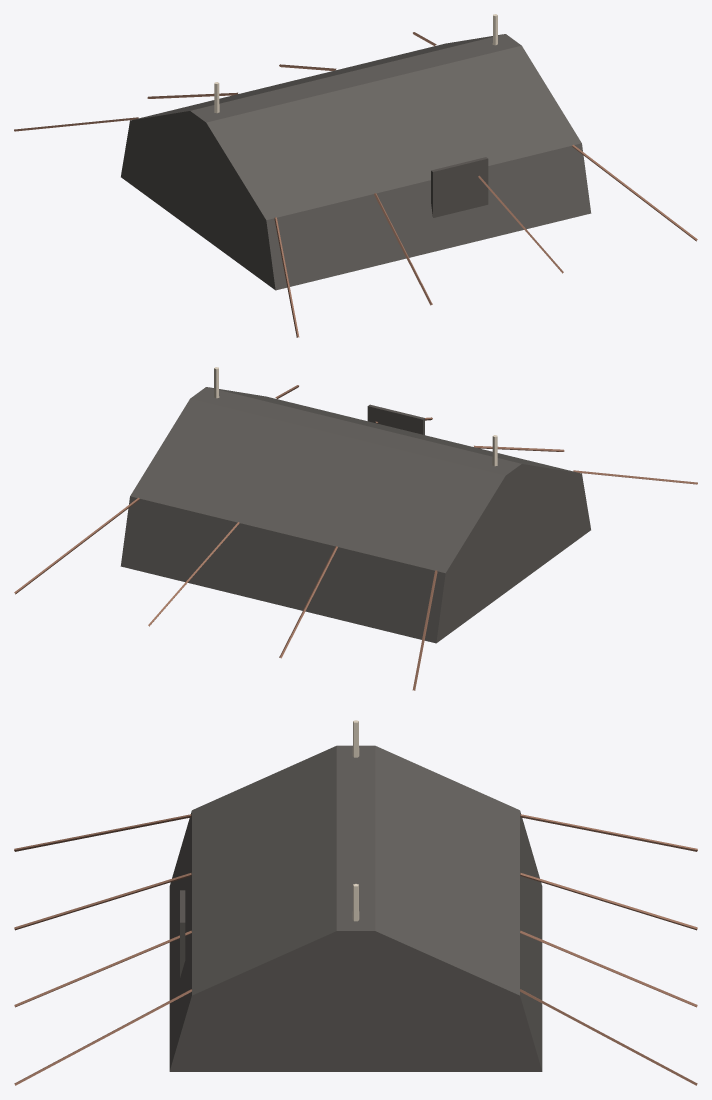
3 views of the same model, one above another, from view 1: azimuth 30°, elevation 25°; view 2: azimuth 150°, elevation 25°; view 3: azimuth 270°, elevation 25° (orthographic). The views are drawn at different scales.
Visible parts, largest first — view 1: WB_blackTent_0.85; view 2: WB_blackTent_0.85; view 3: WB_blackTent_0.85.
Boxes of the visible parts, x1,y1,x2,y2 form: WB_blackTent_0.85: (14, 14, 697, 337); WB_blackTent_0.85: (14, 367, 697, 690); WB_blackTent_0.85: (14, 720, 697, 1085).
Size of the model in its own units: 8.64 by 3.01 by 10.6.
